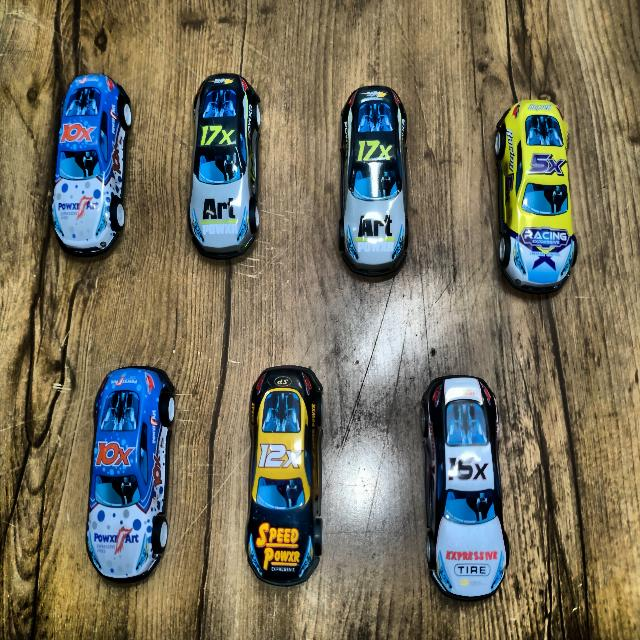Car: (238, 354, 328, 588), (421, 376, 509, 600), (87, 366, 174, 582), (495, 100, 577, 294), (52, 75, 131, 256), (188, 74, 260, 259), (338, 86, 408, 276)
